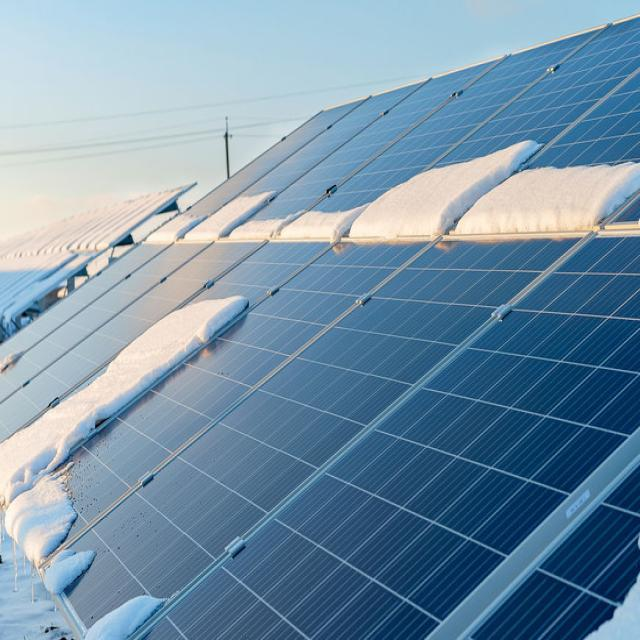snow covered: (0, 20, 639, 639)
